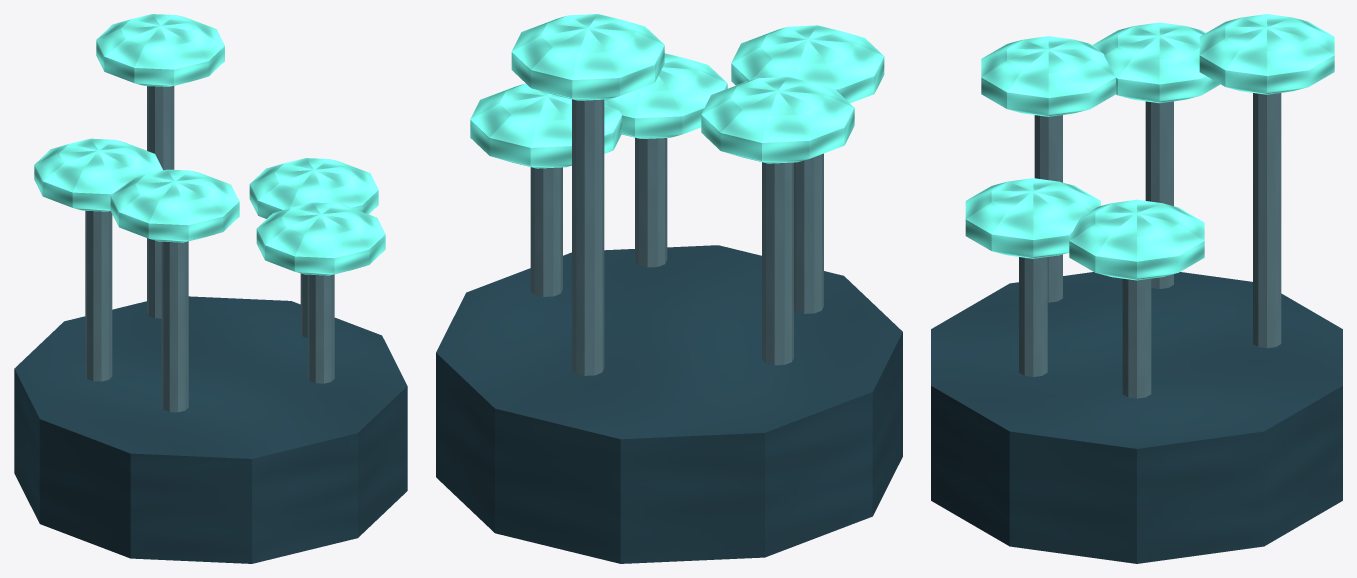
Rendered from atlas100-s061-a12.glb.
The picture shows the model from 3 angles, left to right: view 1: azimuth 30°, elevation 25°; view 2: azimuth 150°, elevation 25°; view 3: azimuth 270°, elevation 25°; orthographic projection. The views are drawn at different scales.
Parts seen in each view (by area): view 1: atlas100-s061-a12:part-000, atlas100-s061-a12:part-008, atlas100-s061-a12:part-006, atlas100-s061-a12:part-004, atlas100-s061-a12:part-010, atlas100-s061-a12:part-002, atlas100-s061-a12:part-003, atlas100-s061-a12:part-009, atlas100-s061-a12:part-005, atlas100-s061-a12:part-007, atlas100-s061-a12:part-001; view 2: atlas100-s061-a12:part-000, atlas100-s061-a12:part-006, atlas100-s061-a12:part-010, atlas100-s061-a12:part-005, atlas100-s061-a12:part-004, atlas100-s061-a12:part-002, atlas100-s061-a12:part-009, atlas100-s061-a12:part-008, atlas100-s061-a12:part-003, atlas100-s061-a12:part-001, atlas100-s061-a12:part-007; view 3: atlas100-s061-a12:part-000, atlas100-s061-a12:part-006, atlas100-s061-a12:part-002, atlas100-s061-a12:part-004, atlas100-s061-a12:part-008, atlas100-s061-a12:part-005, atlas100-s061-a12:part-010, atlas100-s061-a12:part-001, atlas100-s061-a12:part-007, atlas100-s061-a12:part-009, atlas100-s061-a12:part-003.
Boxes of the visible parts, x1,y1,x2,y2 form: atlas100-s061-a12:part-000: (14,296,407,563); atlas100-s061-a12:part-008: (256,202,385,275); atlas100-s061-a12:part-006: (96,14,224,86); atlas100-s061-a12:part-004: (110,169,239,242); atlas100-s061-a12:part-010: (34,138,162,211); atlas100-s061-a12:part-002: (249,158,378,218); atlas100-s061-a12:part-003: (161,241,188,412); atlas100-s061-a12:part-009: (85,210,112,381); atlas100-s061-a12:part-005: (147,86,174,318); atlas100-s061-a12:part-007: (307,274,334,383); atlas100-s061-a12:part-001: (300,273,307,338); atlas100-s061-a12:part-000: (436,245,902,563); atlas100-s061-a12:part-006: (511,14,664,100); atlas100-s061-a12:part-010: (701,77,854,163); atlas100-s061-a12:part-005: (572,99,604,375); atlas100-s061-a12:part-004: (731,25,884,103); atlas100-s061-a12:part-002: (470,83,621,168); atlas100-s061-a12:part-009: (762,162,793,365); atlas100-s061-a12:part-008: (604,53,727,138); atlas100-s061-a12:part-003: (794,153,823,313); atlas100-s061-a12:part-001: (530,167,562,296); atlas100-s061-a12:part-007: (635,137,667,267); atlas100-s061-a12:part-000: (931,272,1342,563); atlas100-s061-a12:part-006: (1199,14,1334,94); atlas100-s061-a12:part-002: (1069,199,1204,280); atlas100-s061-a12:part-004: (981,36,1115,116); atlas100-s061-a12:part-008: (965,178,1100,258); atlas100-s061-a12:part-005: (1253,93,1281,348); atlas100-s061-a12:part-010: (1093,22,1220,103); atlas100-s061-a12:part-001: (1122,278,1151,398); atlas100-s061-a12:part-007: (1019,257,1047,376); atlas100-s061-a12:part-009: (1145,101,1173,288); atlas100-s061-a12:part-003: (1034,115,1062,302).
Size of the model in its own units: 1.16 by 1.33 by 1.1.
3 materials, 3 textured.
